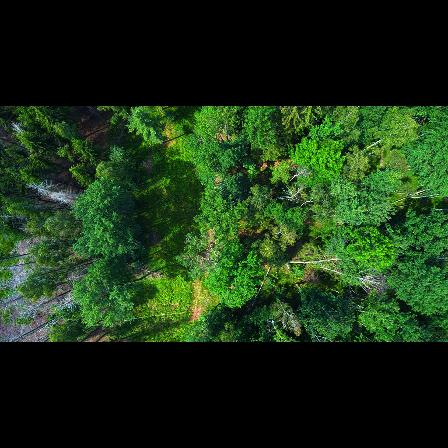Dead: (23, 288, 76, 314), (7, 318, 55, 342), (353, 267, 383, 296), (0, 290, 42, 308), (276, 182, 309, 204), (2, 274, 38, 291), (2, 258, 39, 273), (27, 181, 66, 194), (49, 191, 82, 205), (11, 119, 26, 136)
